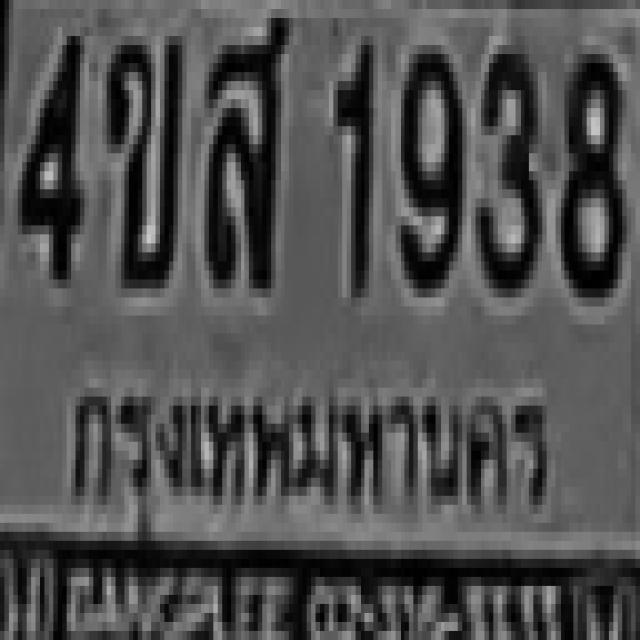1: (333, 31, 369, 284)
11KhorKhai: (102, 27, 178, 279)
3: (471, 36, 538, 289)
4: (16, 27, 78, 270)
49SorSuea: (200, 9, 284, 279)
8: (556, 45, 618, 289)
9: (396, 36, 458, 289)
Bangkok: (57, 356, 560, 551)
